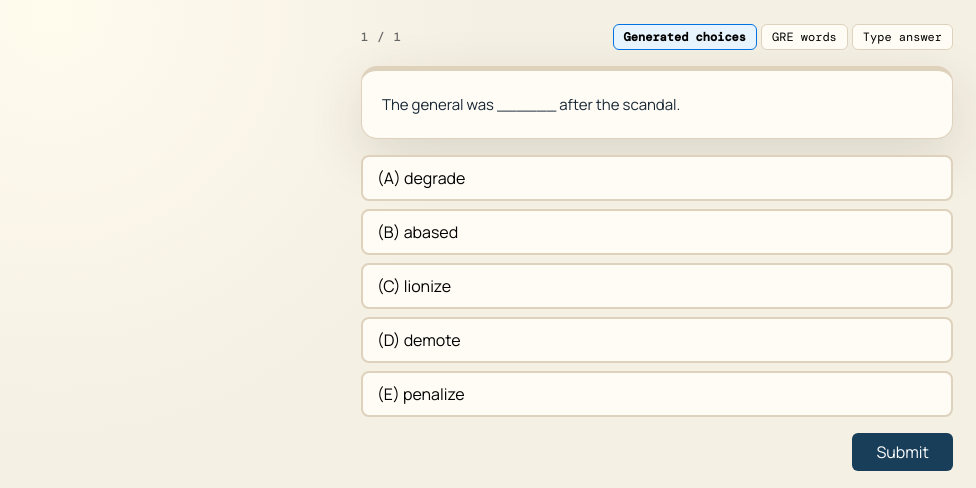
Scenario: FillInBlank - multiple choice › selecting correct answer and submitting shows green feedback
Click the button "(B) abased" at (431, 232), box [361,209,953,255]
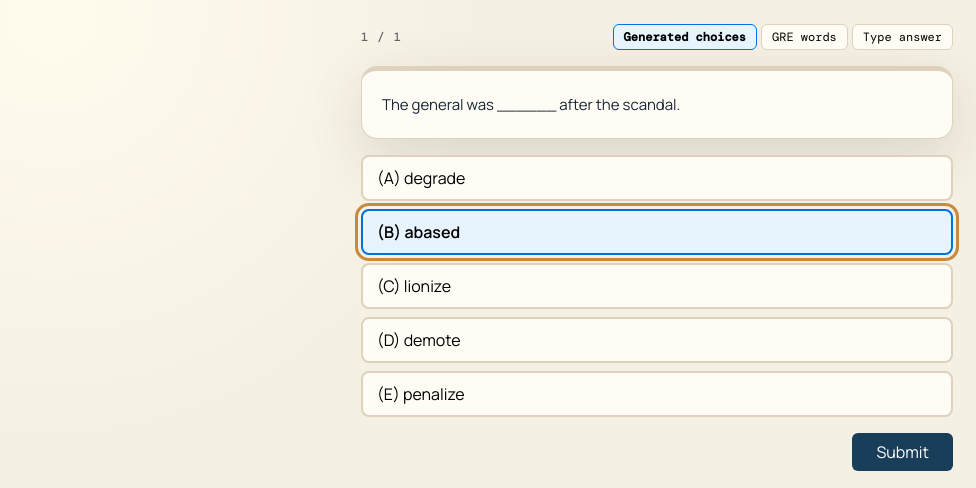
Click the button "Submit" at (903, 452), box [852,433,953,471]
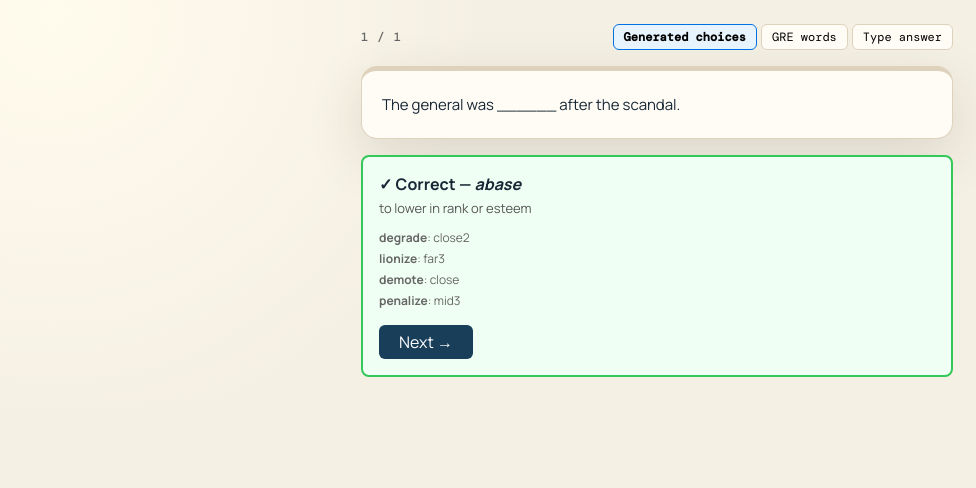
Now the text "✓ Correct — abase" is shown, box [379,173,521,195]
